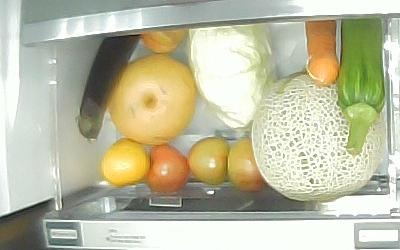cabbage: (190, 24, 276, 126)
carrot: (305, 19, 340, 86)
eggplant: (76, 34, 140, 144)
melon: (252, 70, 386, 202)
pear: (107, 56, 196, 146)
prune: (228, 139, 268, 194), (188, 136, 230, 186), (140, 28, 189, 54)
tangerine: (101, 138, 150, 187)
tomato: (145, 144, 189, 192)
zucchini: (338, 18, 385, 156)
